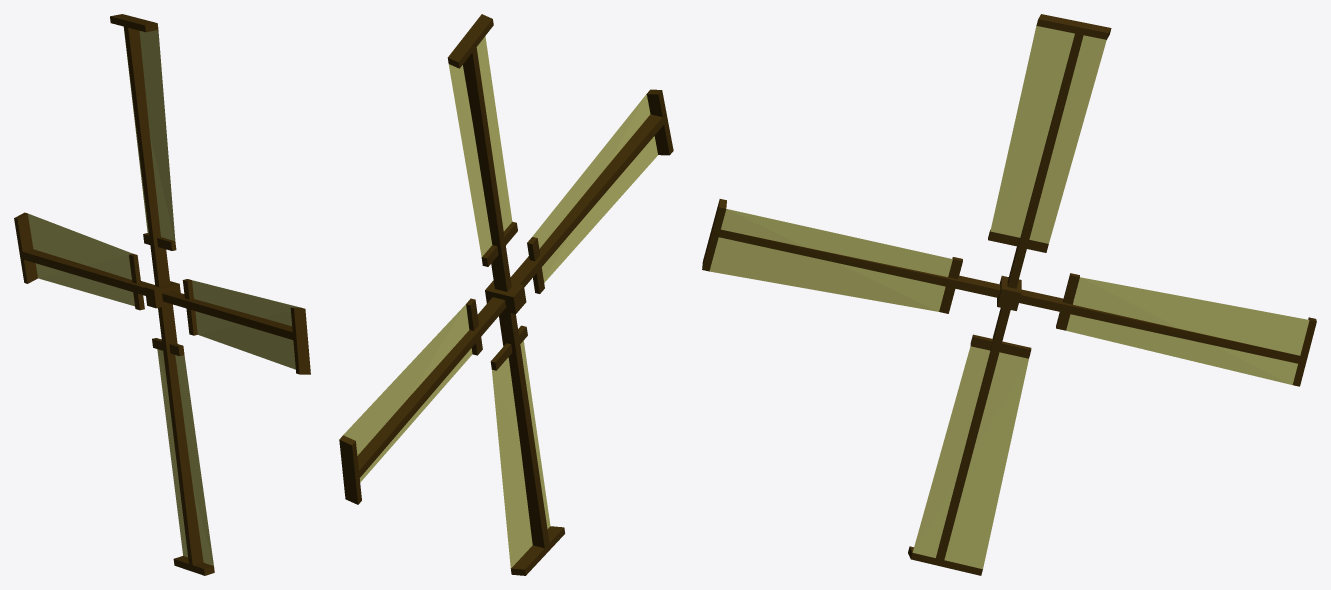
Rendered from mill_sails0017.obj.
The picture shows the model from 3 angles, left to right: view 1: azimuth 30°, elevation 25°; view 2: azimuth 150°, elevation 25°; view 3: azimuth 270°, elevation 25°; orthographic projection. The views are drawn at different scales.
Visible parts, largest first — view 1: Sails; view 2: Sails; view 3: Sails.
Part boxes in pixels (<box>): Sails: <box>14,14,310,575</box>; Sails: <box>339,14,673,575</box>; Sails: <box>702,14,1316,575</box>.
Size of the model in its own units: 0.5135 by 9.95 by 9.95.
